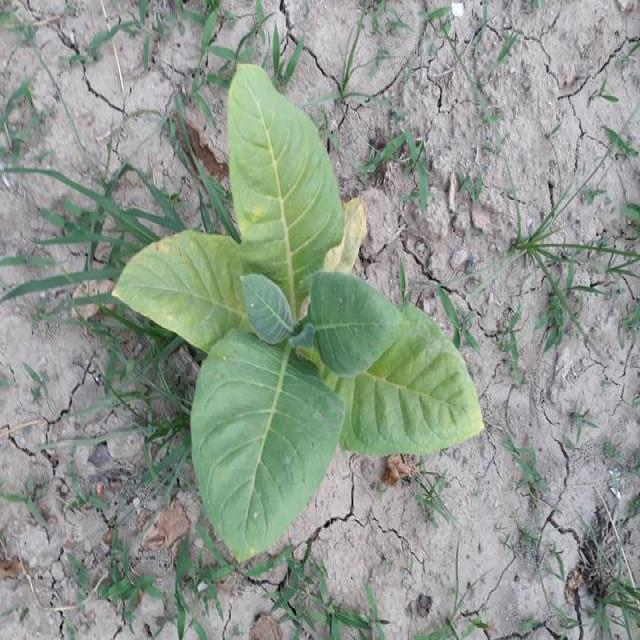crop: (124, 68, 479, 548)
